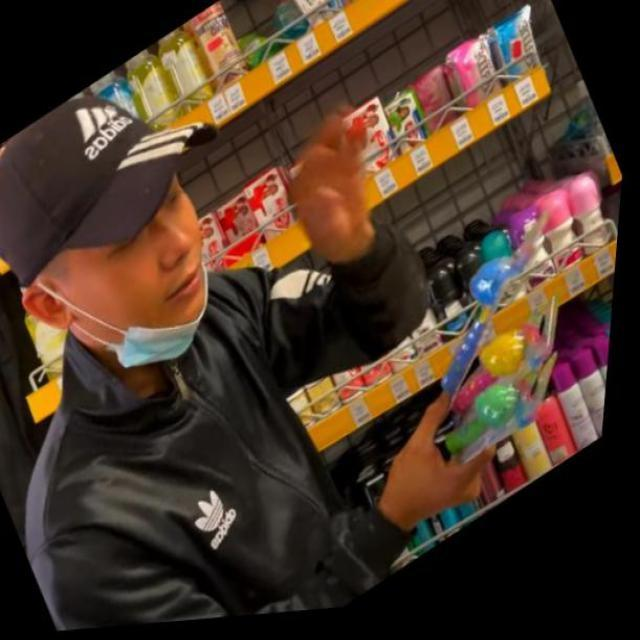hairnet: (67, 182, 251, 392)
